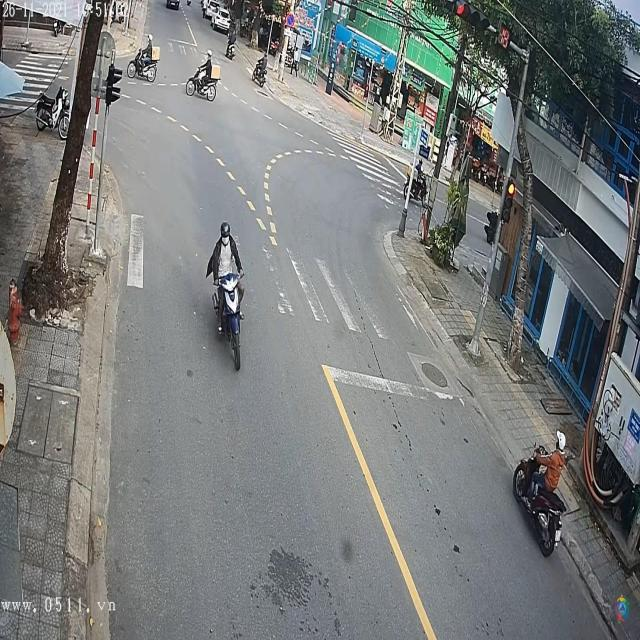car: (166, 0, 181, 9)
motorcycle: (509, 439, 566, 556), (208, 254, 248, 372), (126, 43, 159, 84), (186, 72, 219, 101), (405, 170, 428, 208), (251, 54, 269, 92)
